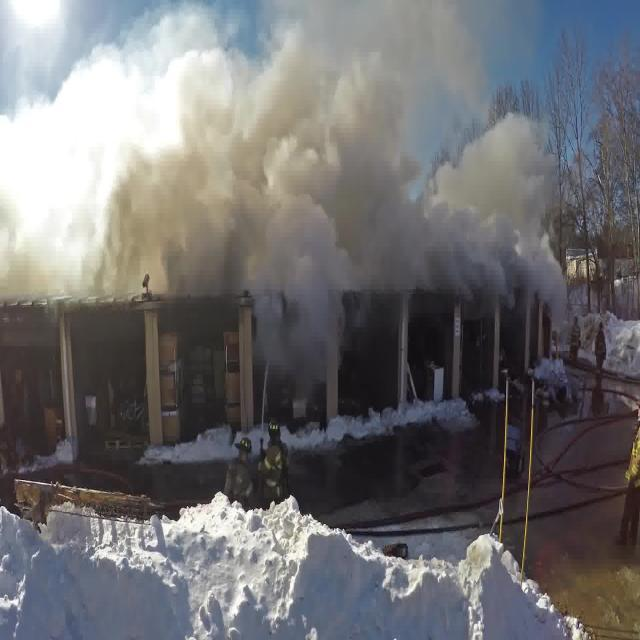Smoke: (6, 112, 520, 306)
